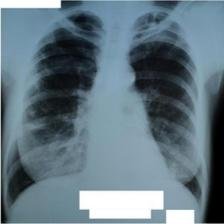tuberculosis: (5, 6, 207, 218)
